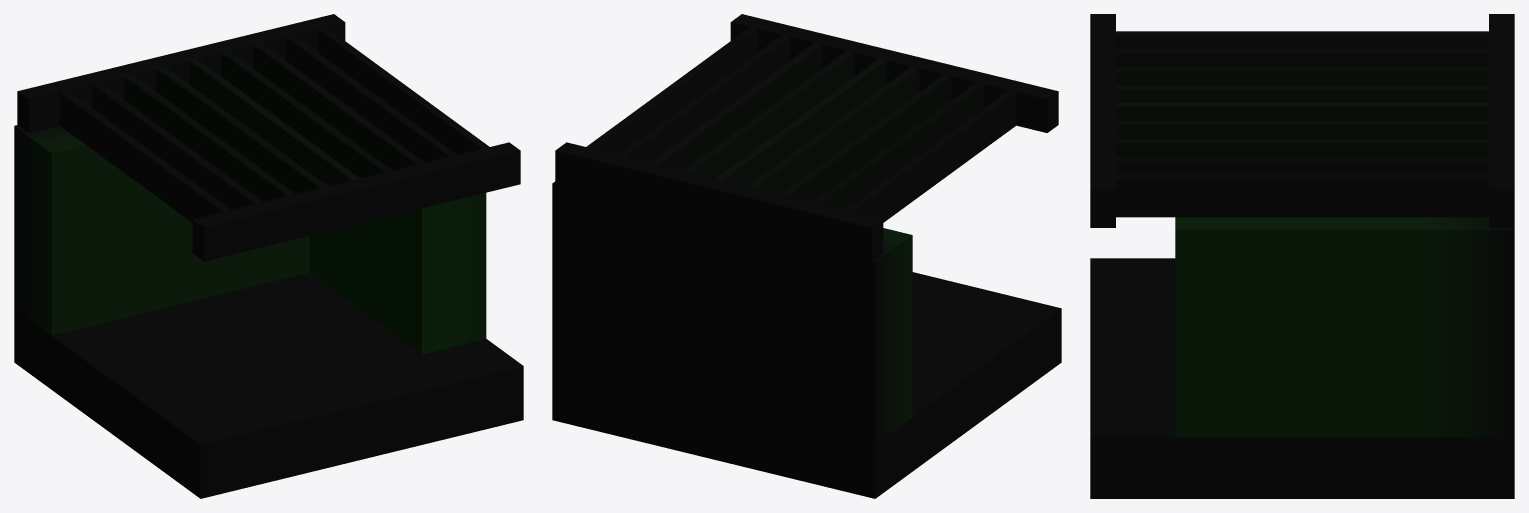
File: muong_corner.glb
3 renders of one model, left to right at view 1: azimuth 30°, elevation 25°; view 2: azimuth 150°, elevation 25°; view 3: azimuth 270°, elevation 25°, orthographic. The views are drawn at different scales.
Visible parts, largest first — view 1: muong_corner; view 2: muong_corner; view 3: muong_corner.
Part boxes in pixels (bbox=[...]): muong_corner: bbox=[14, 14, 523, 498]; muong_corner: bbox=[552, 14, 1061, 498]; muong_corner: bbox=[1090, 14, 1514, 498].
Bounding box in the file's own units: 0.5 × 0.4 × 0.5.
